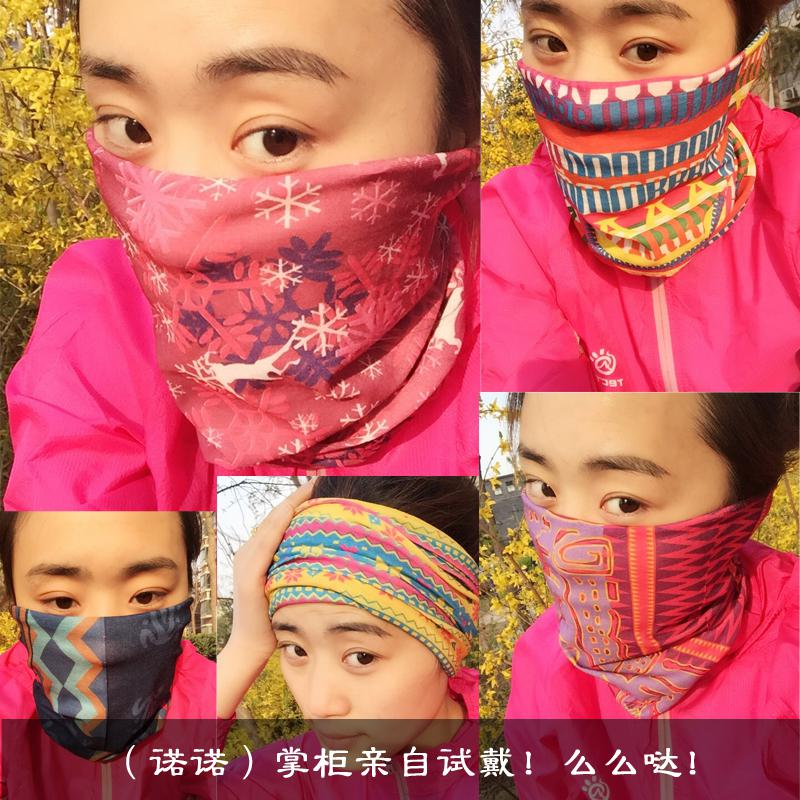NONE: (271, 584, 425, 768)
OK: (85, 22, 411, 371), (526, 1, 732, 207), (521, 419, 706, 644), (13, 535, 188, 710)
